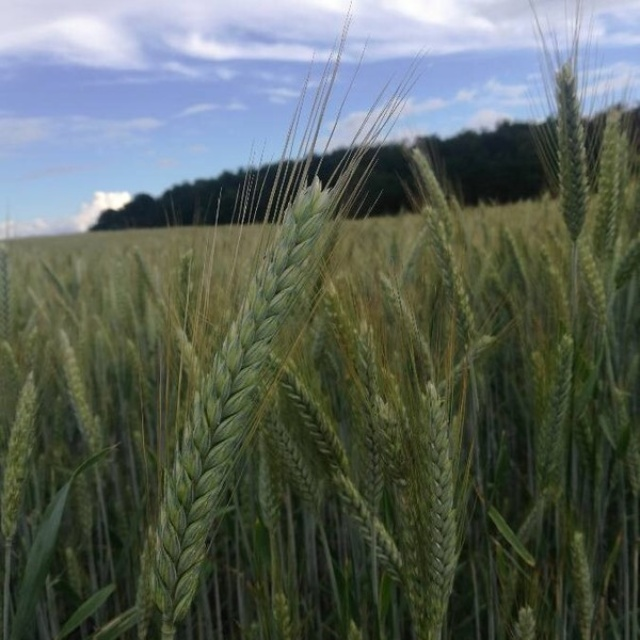obstacle: (132, 71, 593, 581)
